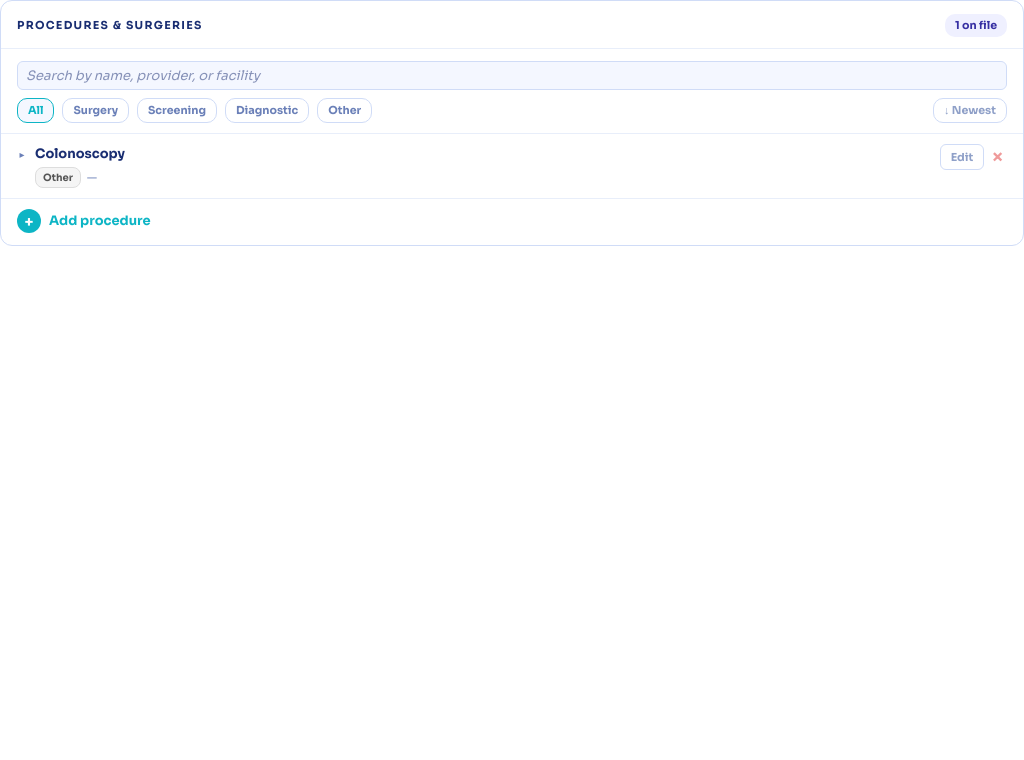
ProcedureList — edit form › clicking Edit on an existing procedure opens the edit form
Step 1. Click the button "Edit" → (962, 157), box [940, 144, 984, 170]
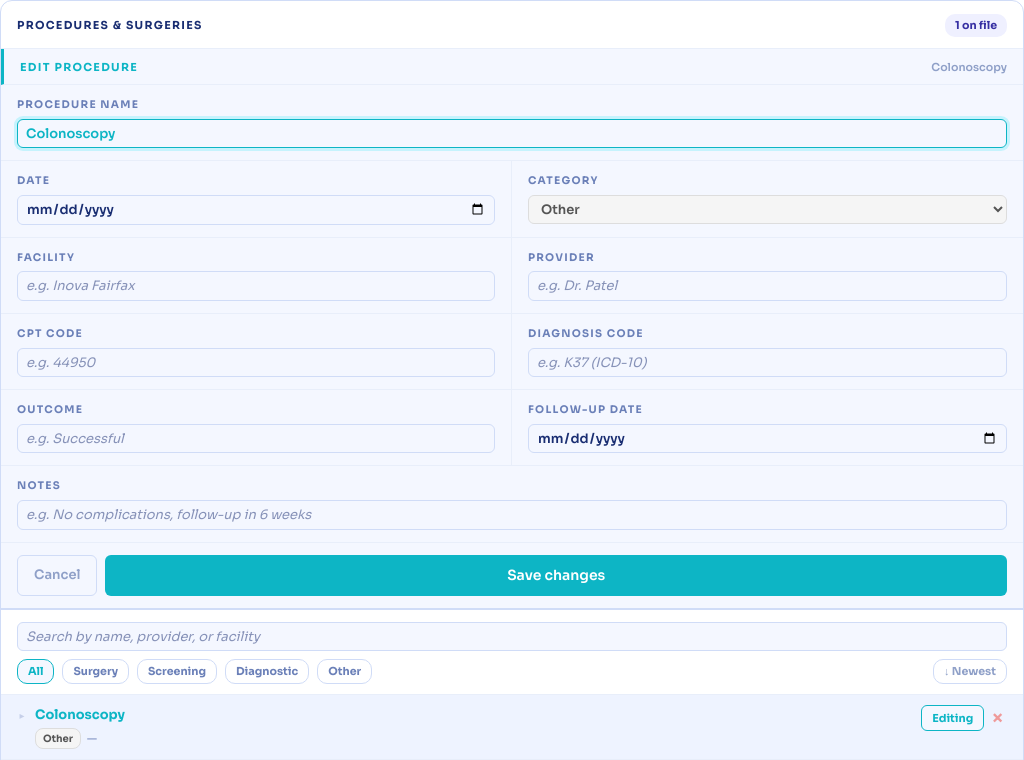
Result: the text "Edit Procedure" is shown at [20, 58, 138, 75]
